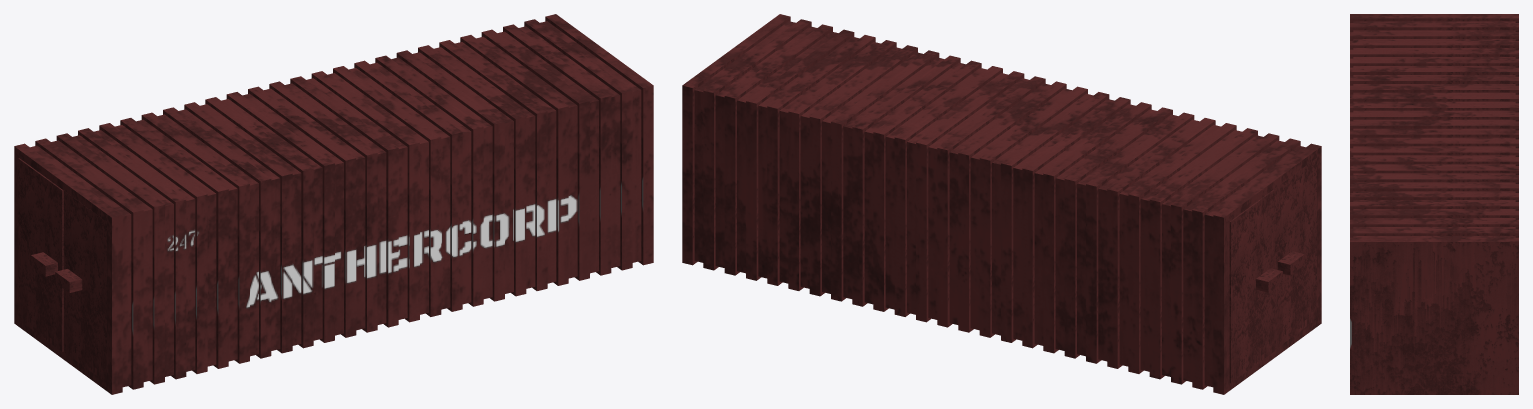
File: Container.gltf
The picture shows the model from 3 angles, left to right: view 1: azimuth 30°, elevation 25°; view 2: azimuth 150°, elevation 25°; view 3: azimuth 270°, elevation 25°; orthographic projection. The views are drawn at different scales.
Visible parts, largest first — view 1: Cube.001, Cube.002, Cube.003; view 2: Cube.001, Cube.002, Cube.003; view 3: Cube.001.
Boxes of the visible parts, x1,y1,x2,y2 form: Cube.001: (14, 14, 653, 394); Cube.002: (18, 158, 63, 351); Cube.003: (55, 191, 106, 382); Cube.001: (682, 14, 1321, 394); Cube.002: (1229, 189, 1282, 383); Cube.003: (1274, 158, 1316, 349); Cube.001: (1350, 14, 1518, 394).
Size of the model in its own units: 12.3 by 3.75 by 3.75.
Materials: 2 (2 with a texture image).
